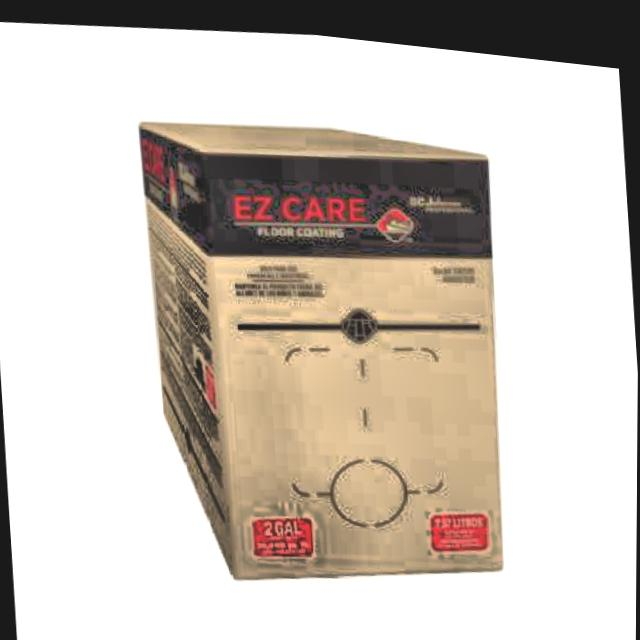Cardbox: (98, 43, 531, 633)
